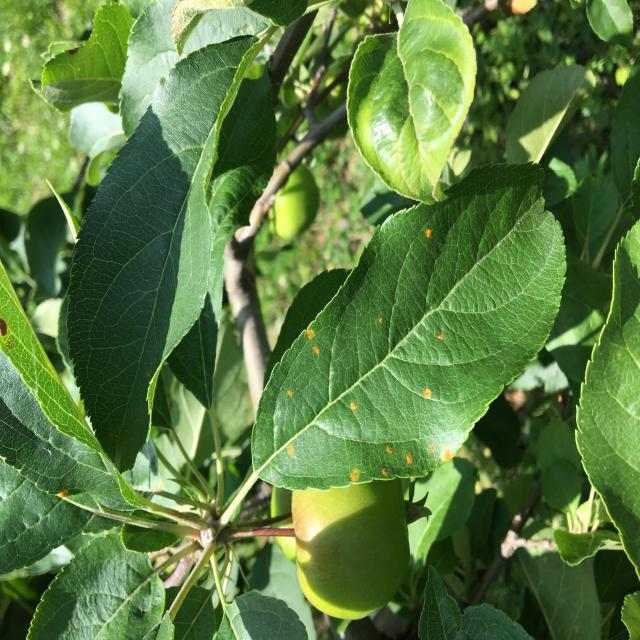rust: (252, 160, 568, 493)
